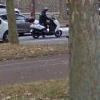Motorcycle: (20, 5, 67, 43)
